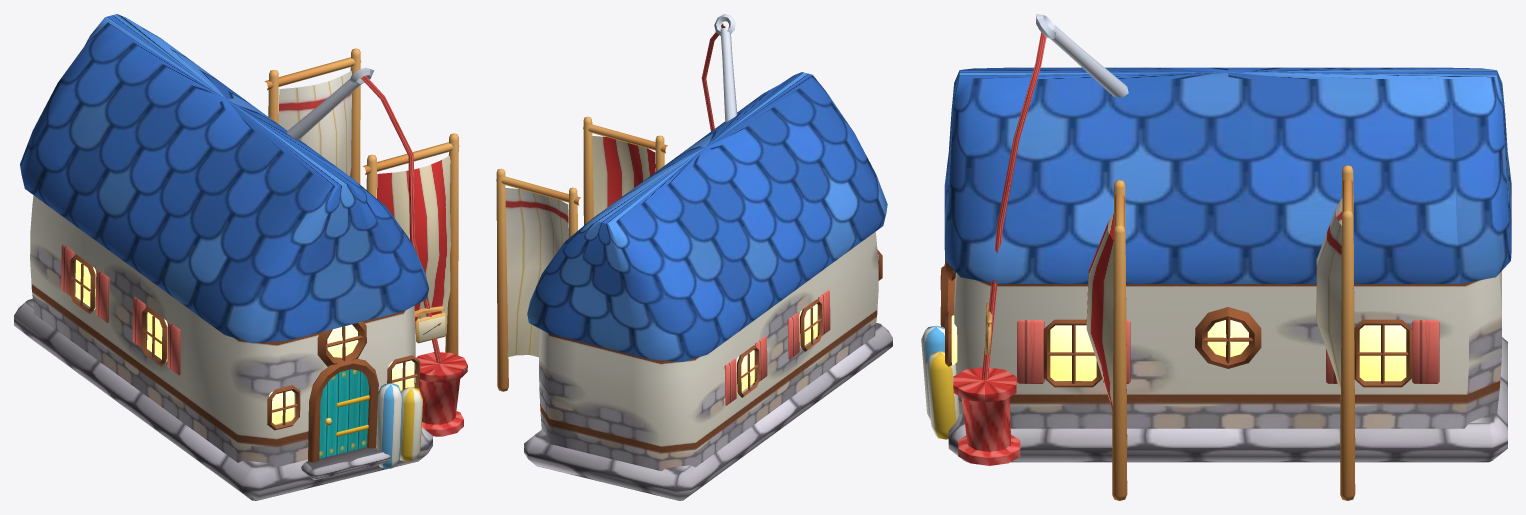
Rendered from sailloft.glb.
3 renders of one model, left to right at view 1: azimuth 30°, elevation 25°; view 2: azimuth 150°, elevation 25°; view 3: azimuth 270°, elevation 25°, orthographic. The views are drawn at different scales.
Parts seen in each view (by area): view 1: sailloft; view 2: sailloft; view 3: sailloft.
Boxes of the visible parts, x1,y1,x2,y2 form: sailloft: [14, 14, 467, 500]; sailloft: [496, 14, 892, 500]; sailloft: [921, 14, 1511, 500].
Size of the model in its own units: 7.17 by 8.8 by 10.88.
Materials: 4 (4 with a texture image).
